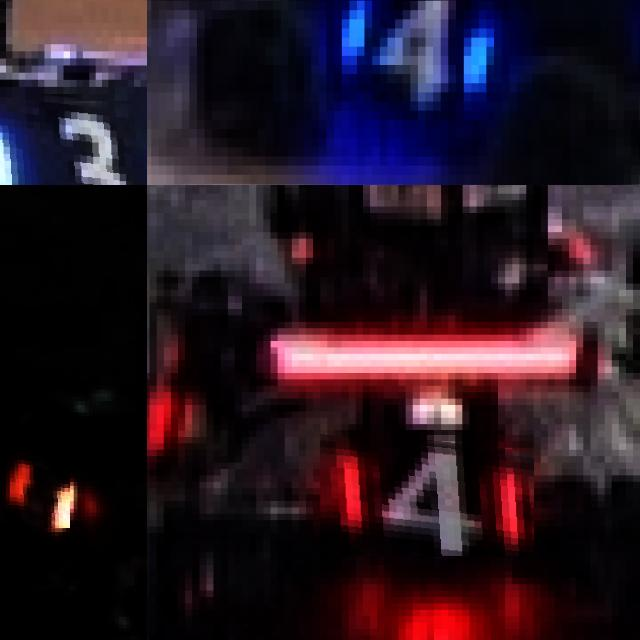B3: (0, 87, 147, 185)
B4: (311, 0, 501, 129)
R4: (320, 431, 534, 558)
Rs: (10, 455, 70, 528)
